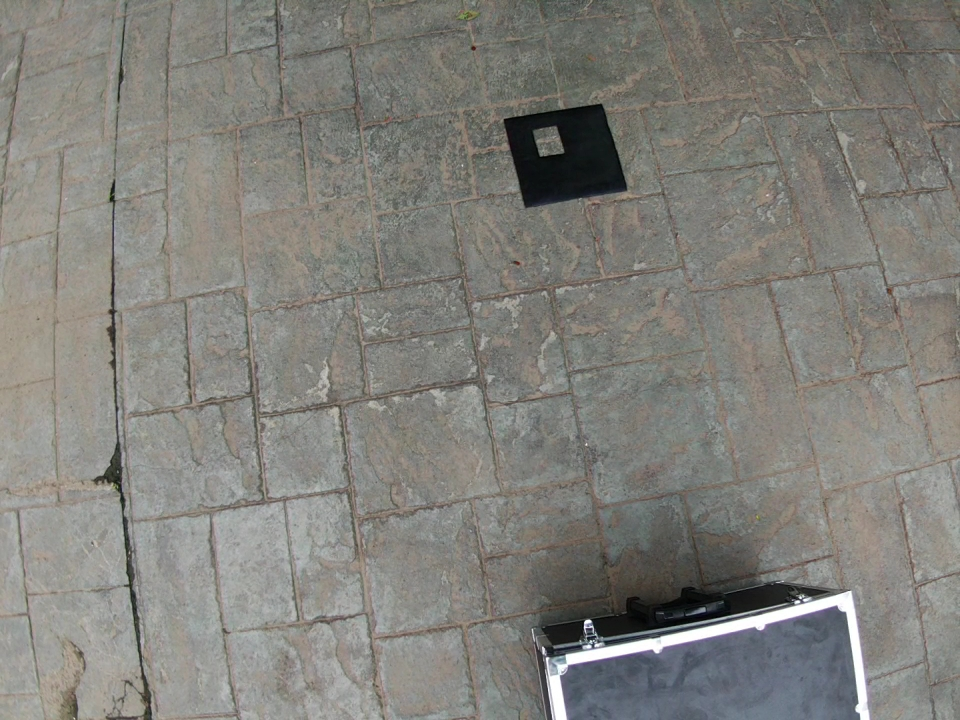qrcode: (502, 104, 626, 207)
